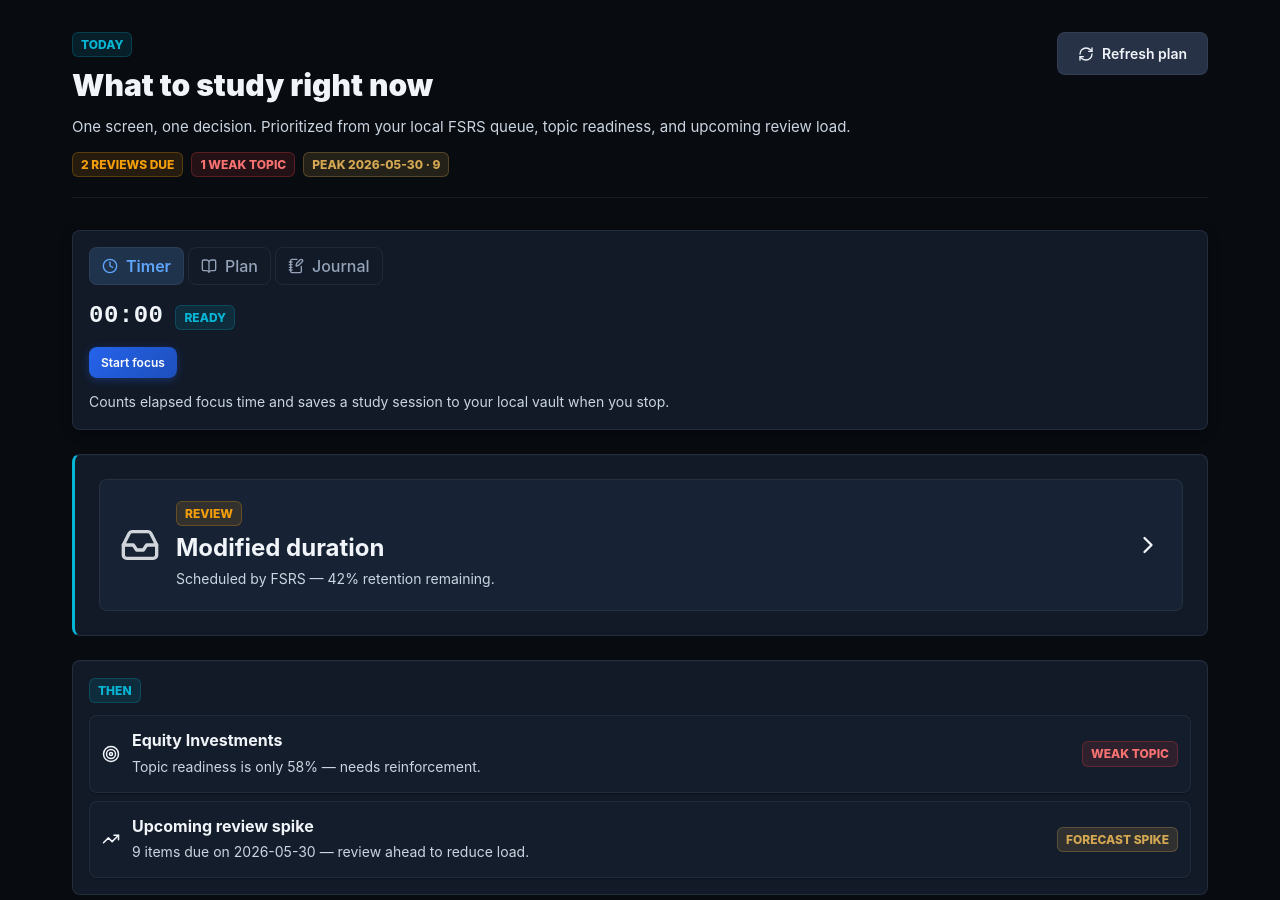
Scenario: Today focus-mode landing › renders the headline, dueCount/weakCount badges, and the hero top action
This screenshot has width=1280, height=900.
Expected: the heading "Modified duration" is shown, top-left (176, 533), bottom-right (384, 562)
Click the tab "Plan" at (230, 266), box top-left (188, 247), bottom-right (271, 285)
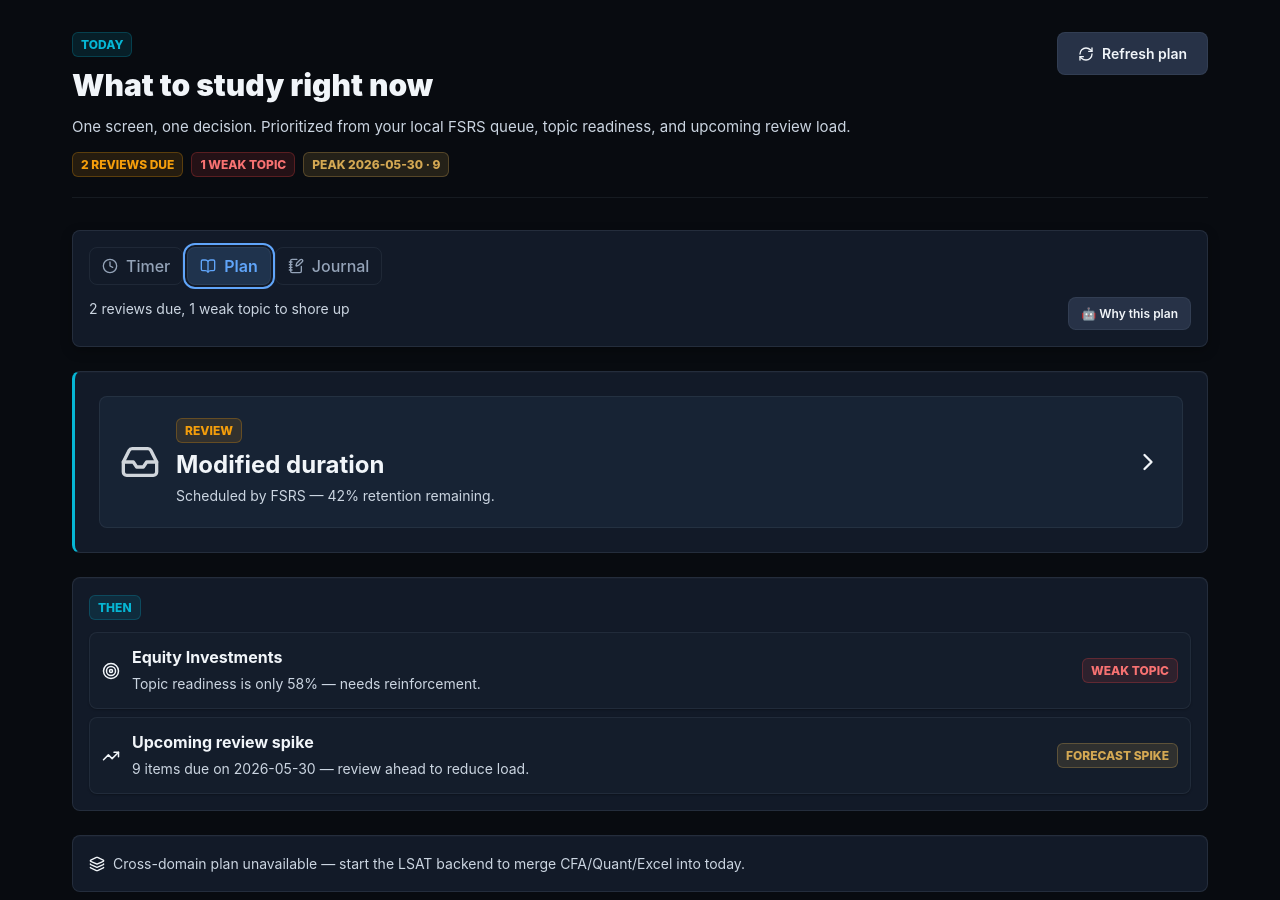
Expected: the text "Upcoming review spike" is shown, top-left (132, 732), bottom-right (314, 752)
Now the text "2 reviews due, 1 weak topic to shore up" is shown, box top-left (89, 297), bottom-right (350, 320)
